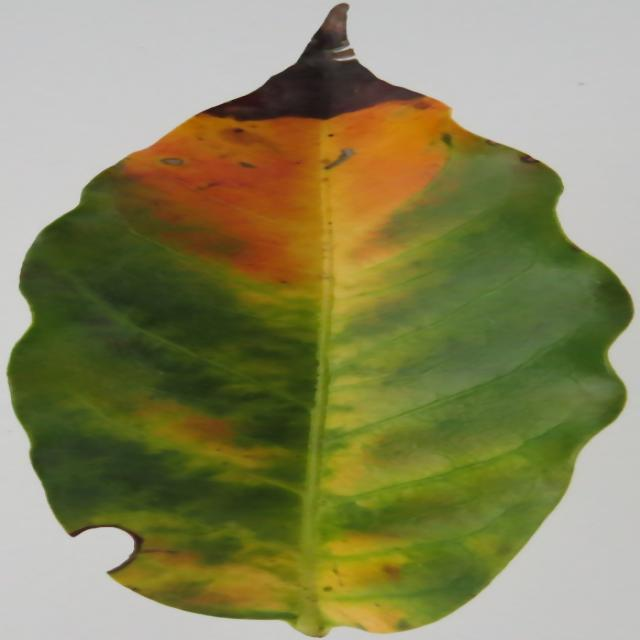DeficienciaNutricional-Fosforo: (11, 8, 630, 635)
